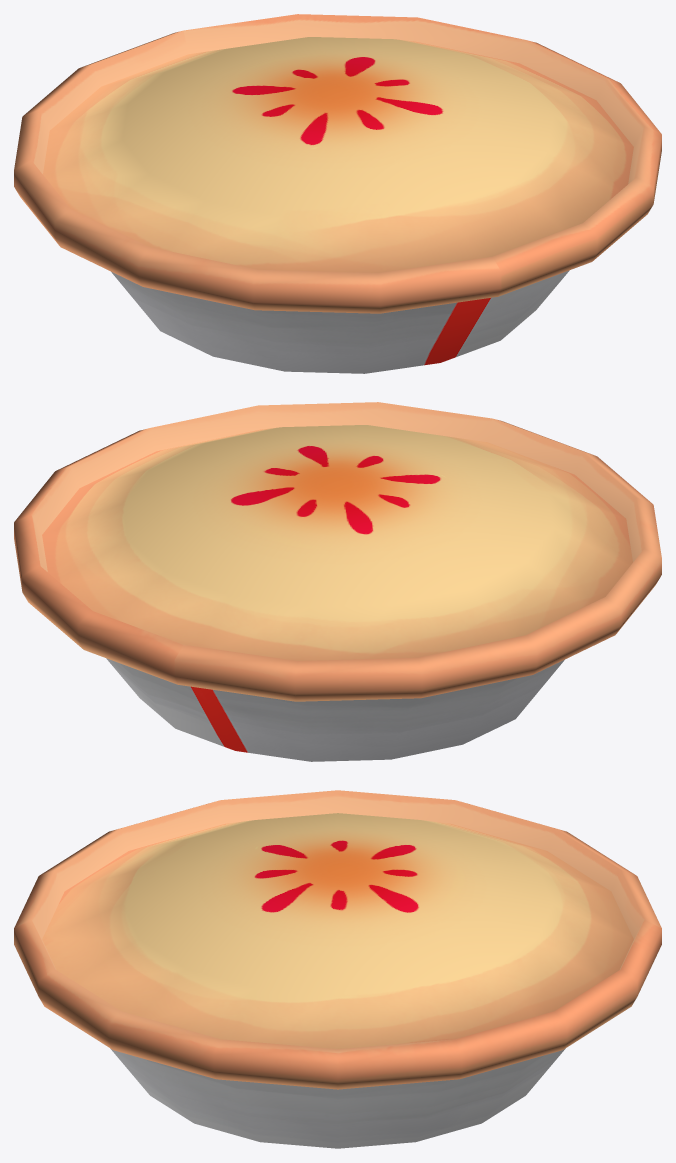
The model's file is torta.glb.
3 renders of one model, top to bottom at view 1: azimuth 30°, elevation 25°; view 2: azimuth 150°, elevation 25°; view 3: azimuth 270°, elevation 25°, orthographic.
Visible parts, largest first — view 1: torta; view 2: torta; view 3: torta.
Part boxes in pixels (<box>): torta: <box>14,14,661,373</box>; torta: <box>14,402,661,761</box>; torta: <box>14,790,661,1148</box>.
Size of the model in its own units: 3.19 by 1.04 by 3.19.
Materials: 1 (1 with a texture image).
